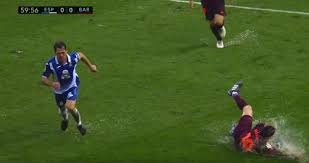falling: (220, 74, 290, 160)
